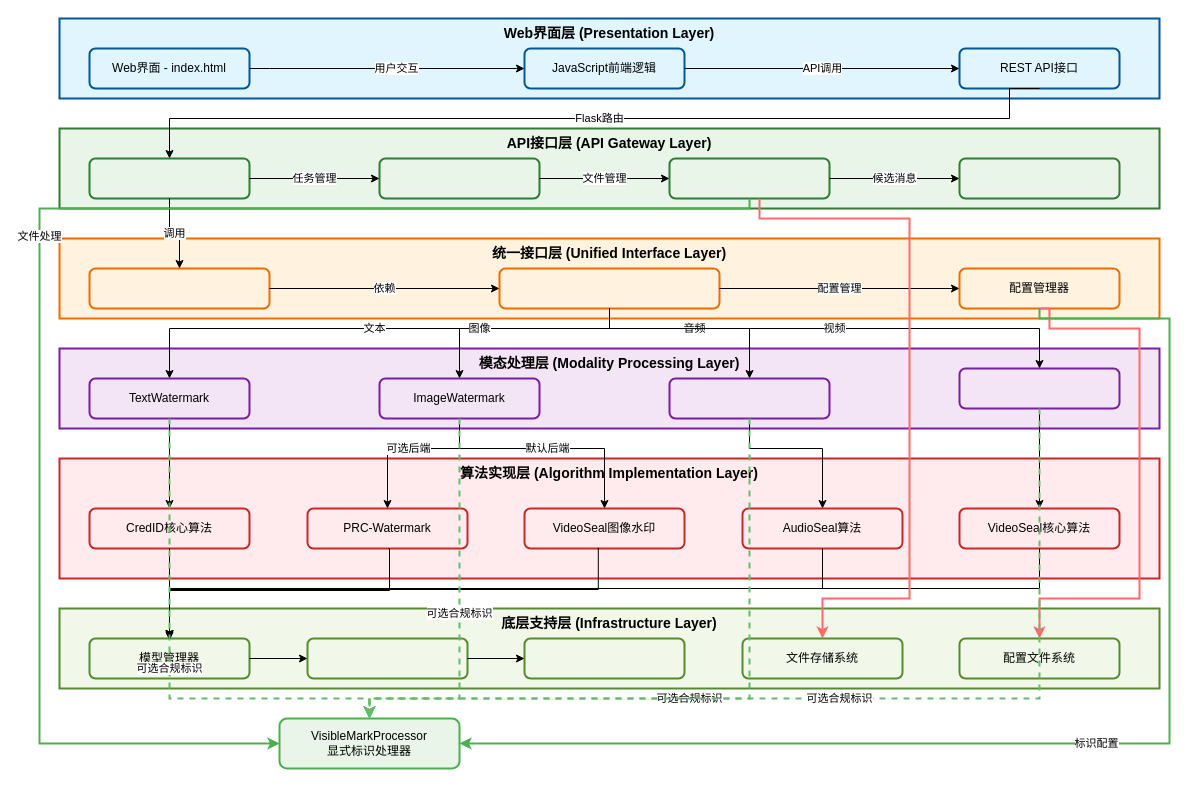
Image size: 1195x786. Some labels were removed from this diagram. The shapes that lost their labels are listed below. From the top down, each one's centre as x and y in pixels, then its label:
At pixel 169 178: "app.py - Flask应用".
At pixel 459 178: "任务状态管理器".
At pixel 749 178: "文件服务器".
At pixel 1039 178: "候选消息管理器".
At pixel 179 288: "WatermarkTool - 高级API".
At pixel 609 288: "UnifiedWatermarkEngine - 核心引擎".
At pixel 749 398: "AudioWatermark".
At pixel 1039 388: "VideoWatermark".
At pixel 387 658: "模型缓存".
At pixel 604 658: "设备管理 - CPU/CUDA".
